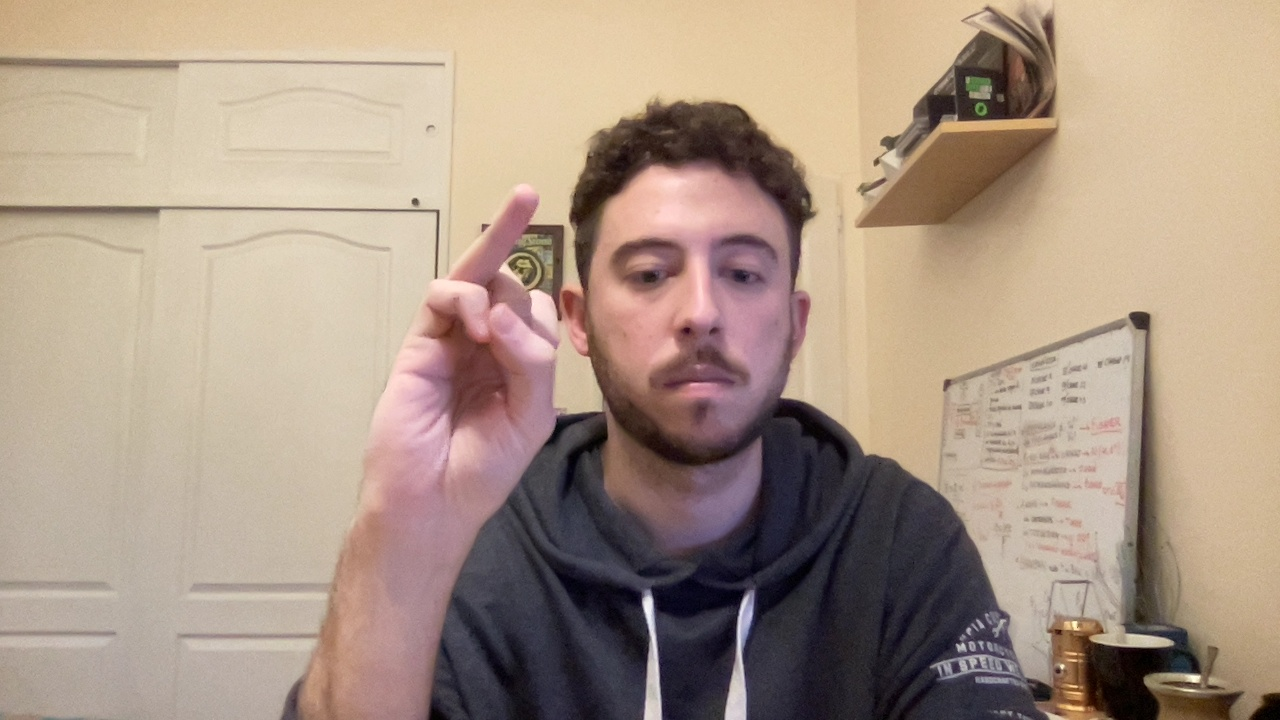anular: (356, 175, 587, 507)
